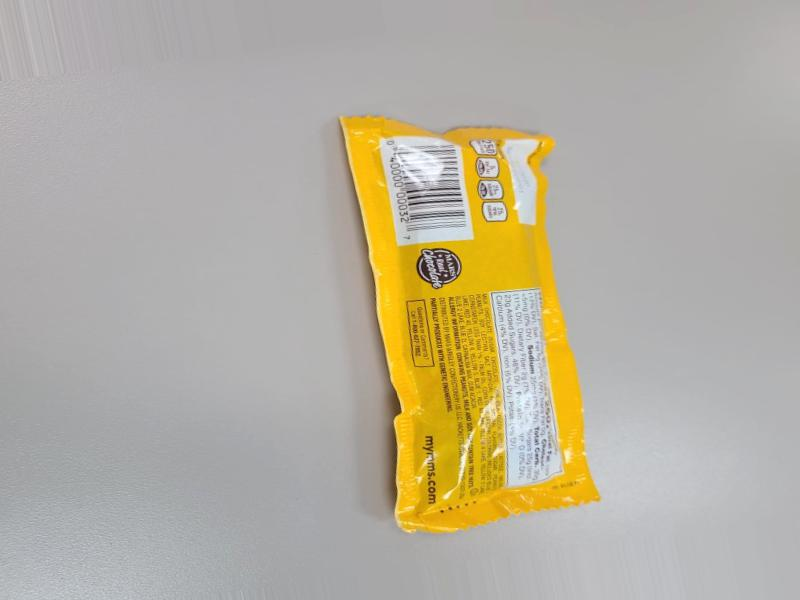m&m: (331, 99, 618, 559)
